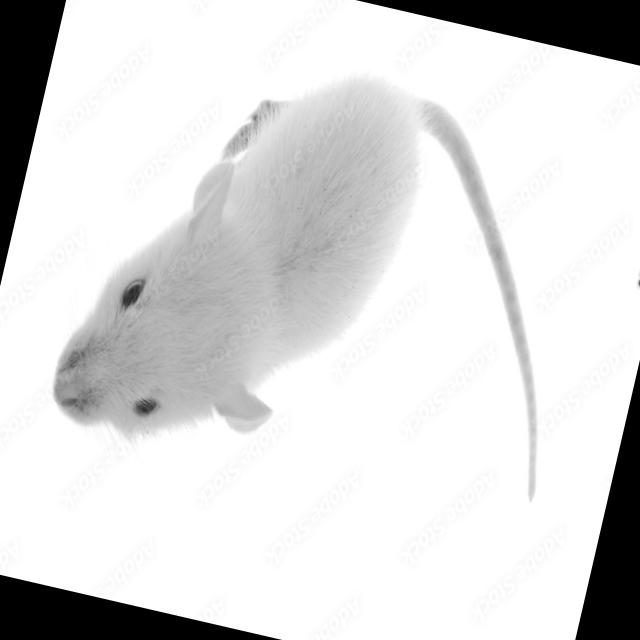rodents: (38, 16, 454, 504)
